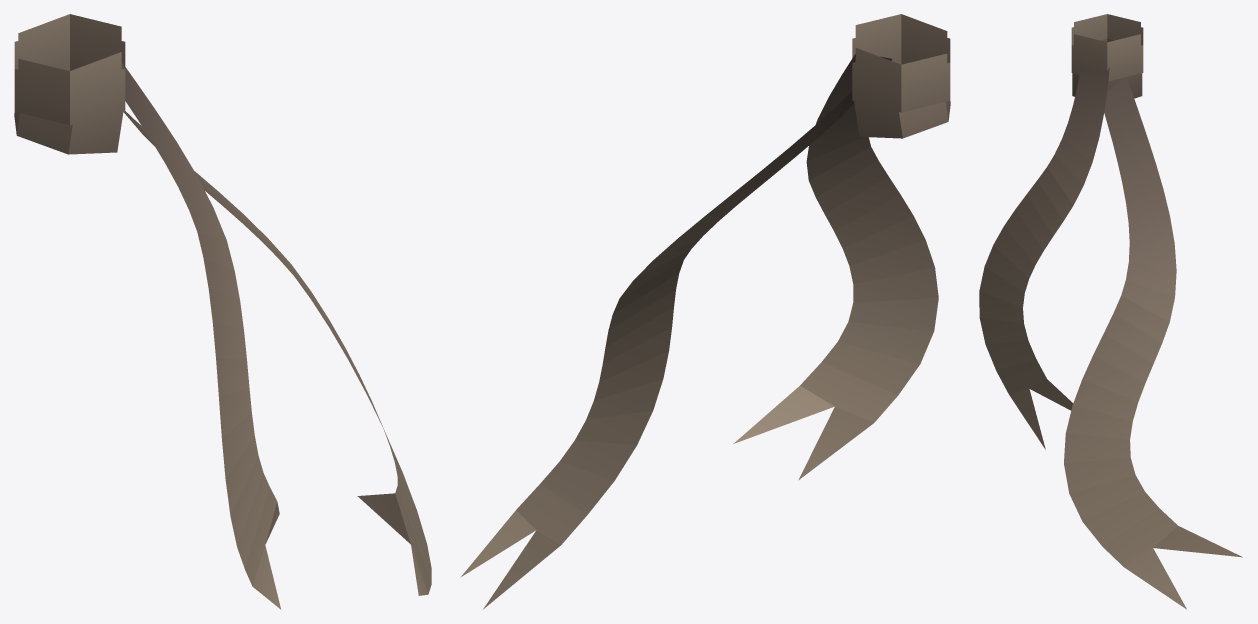
Rendered from ribon_004.fbx.
The picture shows the model from 3 angles, left to right: view 1: azimuth 30°, elevation 25°; view 2: azimuth 150°, elevation 25°; view 3: azimuth 270°, elevation 25°; orthographic projection. The views are drawn at different scales.
Visible parts, largest first — view 1: ribon.004; view 2: ribon.004; view 3: ribon.004.
Boxes of the visible parts, x1,y1,x2,y2 form: ribon.004: (14, 14, 431, 609); ribon.004: (460, 14, 950, 609); ribon.004: (979, 14, 1242, 609).
Bounding box in the file's own units: 33.5 × 48.24 × 25.42.
